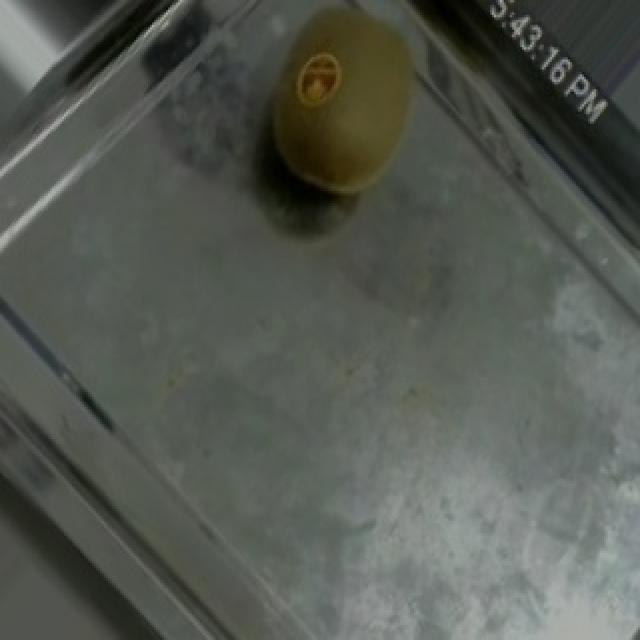Fruit: (224, 3, 458, 233)
